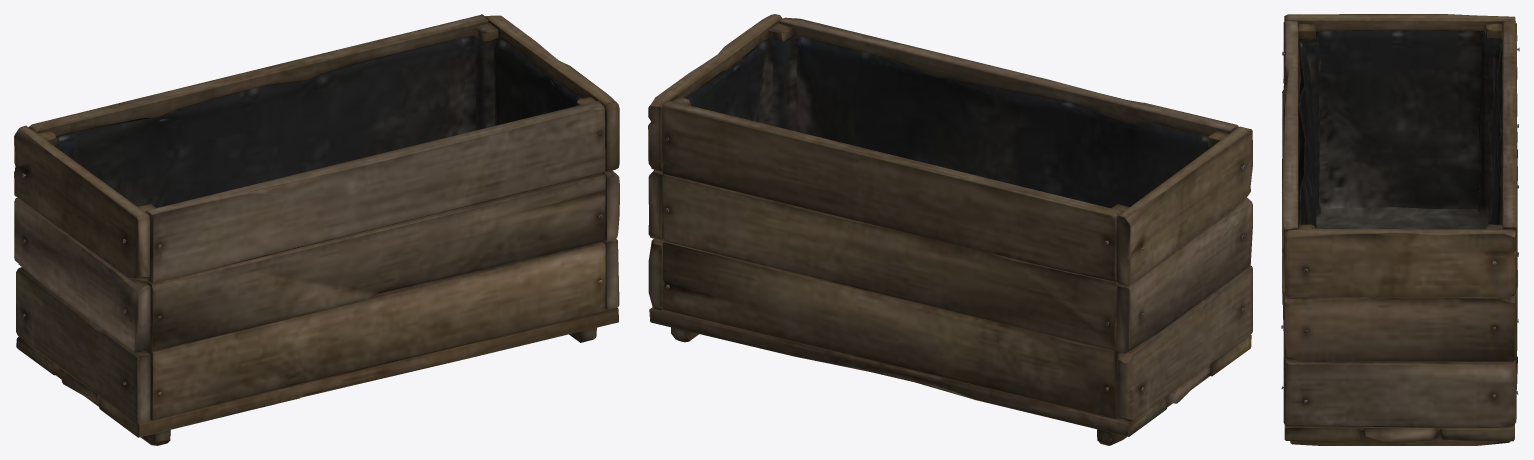
Rendered from planter_box_01.glb.
3 renders of one model, left to right at view 1: azimuth 30°, elevation 25°; view 2: azimuth 150°, elevation 25°; view 3: azimuth 270°, elevation 25°, orthographic. The views are drawn at different scales.
Parts seen in each view (by area): view 1: planter_box_01; view 2: planter_box_01; view 3: planter_box_01.
Boxes of the visible parts, x1,y1,x2,y2 form: planter_box_01: [14, 14, 619, 445]; planter_box_01: [648, 14, 1252, 445]; planter_box_01: [1281, 14, 1519, 445].
Bounding box in the file's own units: 1.18 × 0.55 × 0.5353.
1 material, 1 textured.
